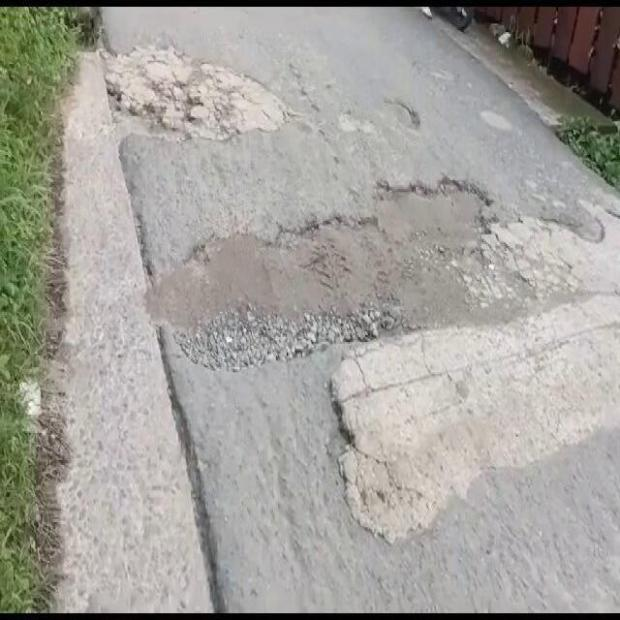lubang: (153, 180, 572, 369), (283, 376, 394, 543), (102, 46, 289, 139), (378, 99, 421, 129)
